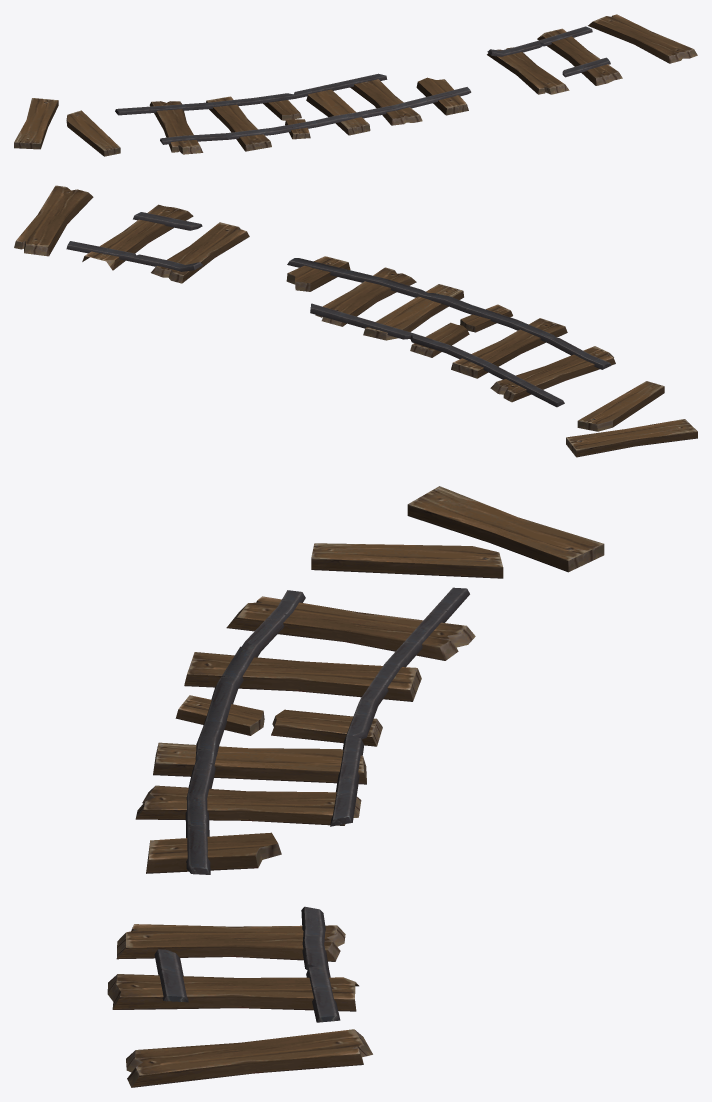
File: 6001_Item_daolu_2.FBX
3 views of the same model, one above another, from view 1: azimuth 30°, elevation 25°; view 2: azimuth 150°, elevation 25°; view 3: azimuth 270°, elevation 25° (orthographic). The views are drawn at different scales.
Visible parts, largest first — view 1: 6001_Item_daolu_2; view 2: 6001_Item_daolu_2; view 3: 6001_Item_daolu_2.
Boxes of the visible parts, box(x1,y1,x2,y2) form: 6001_Item_daolu_2: box(14, 14, 697, 156); 6001_Item_daolu_2: box(14, 185, 697, 457); 6001_Item_daolu_2: box(107, 486, 604, 1087).
Bounding box in the file's own units: 2054 × 46.62 × 728.
